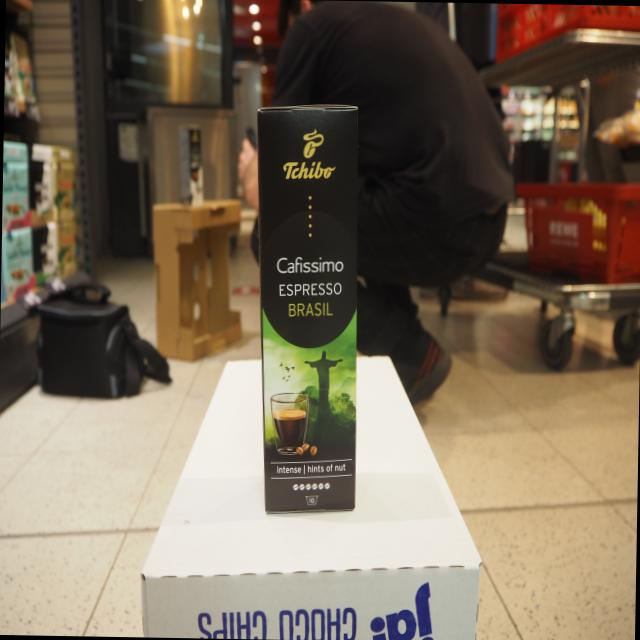Simo CC Colombia: (253, 101, 363, 518)
